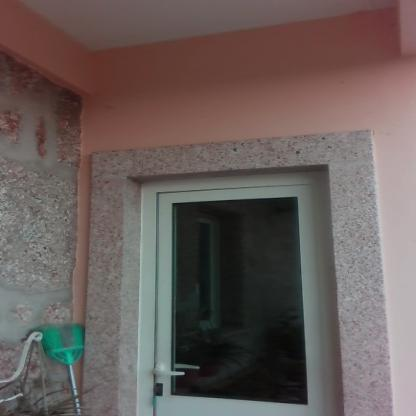door: (154, 192, 335, 416)
lever: (150, 368, 189, 380)
